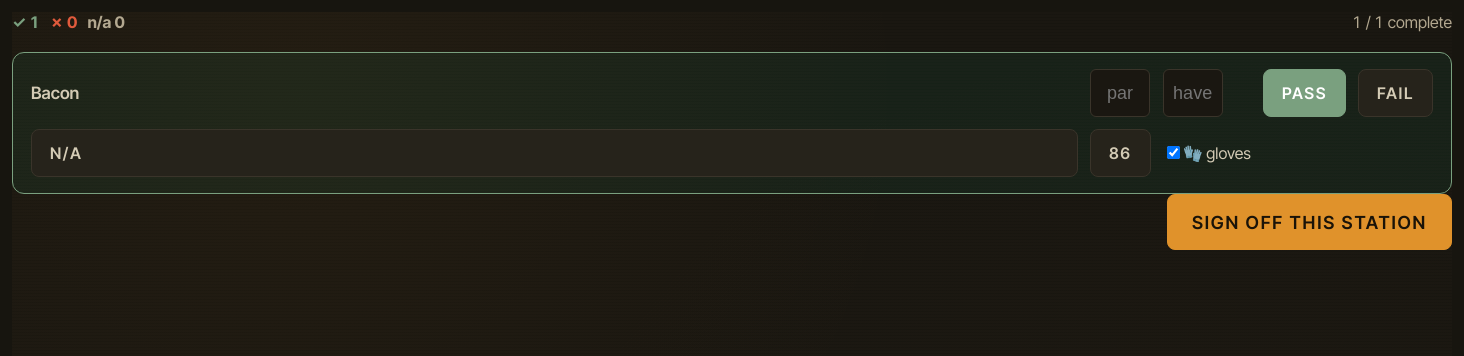
Test: StationChecklist glove attestation — failure rollback › clearing a previously-attested glove also rolls back to true on failure
Click the checkbox named "Glove change attested for Bacon" at (1173, 152), box [1167,146,1180,159]
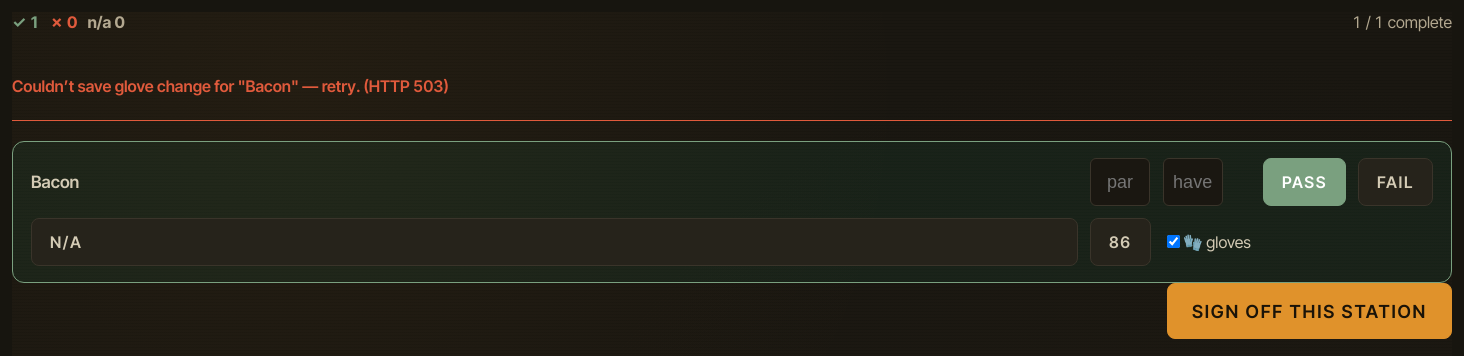
Check: the checkbox named "Glove change attested for Bacon" is checked, box [1167,235,1180,248]
Check: the message "Couldn’t save glove change for \"Bacon\" — retry. (HTTP 503)" is shown, box [12,52,1452,121]
